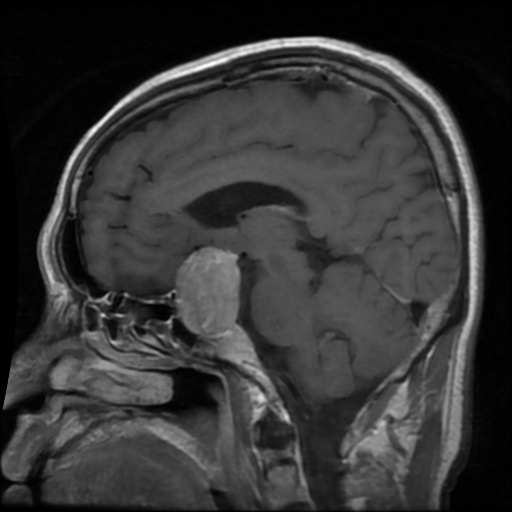pituitary: (175, 245, 239, 338)
